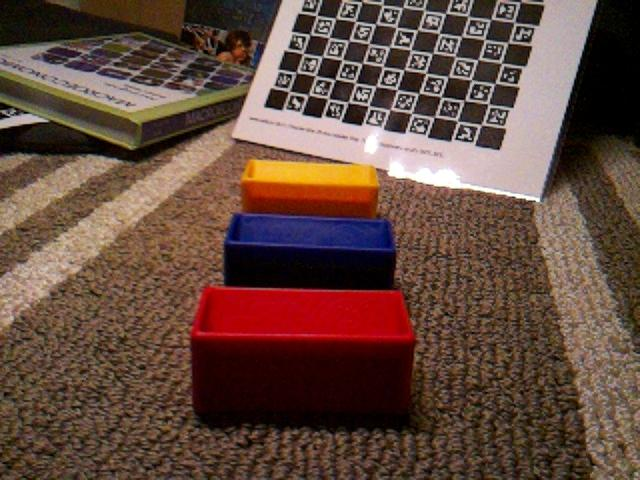blue: (222, 211, 398, 289)
red: (190, 284, 417, 423)
yellow: (240, 157, 381, 219)
